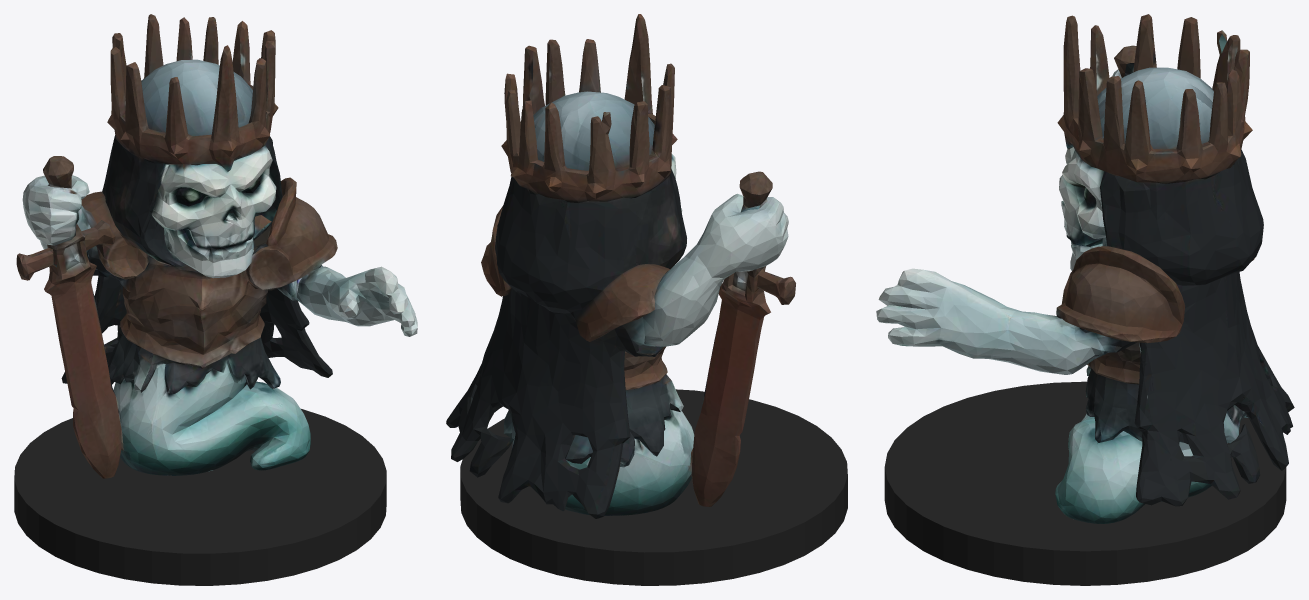
File: nh-knight-of-shrouds.glb
3 renders of one model, left to right at view 1: azimuth 30°, elevation 25°; view 2: azimuth 150°, elevation 25°; view 3: azimuth 270°, elevation 25°, orthographic. The views are drawn at different scales.
Visible parts, largest first — view 1: figure, base; view 2: figure, base; view 3: figure, base.
Part boxes in pixels (left/top/right/bottom): figure: left=16, top=14, right=417, bottom=478; base: left=14, top=409, right=386, bottom=585; figure: left=446, top=14, right=795, bottom=518; base: left=460, top=389, right=847, bottom=585; figure: left=876, top=14, right=1294, bottom=523; base: left=884, top=381, right=1286, bottom=585.
Size of the model in its own units: 1.26 by 1.72 by 1.31.
Materials: 2 (1 with a texture image).
